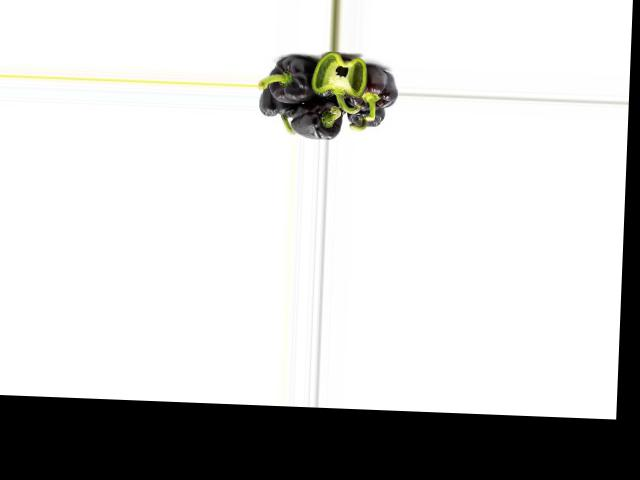bell_pepper: (339, 66, 397, 111)
